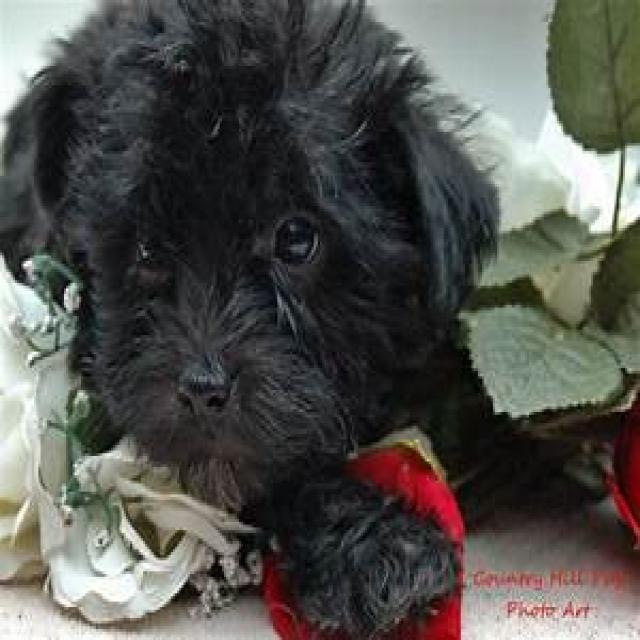KOPEK: (2, 0, 469, 640)
